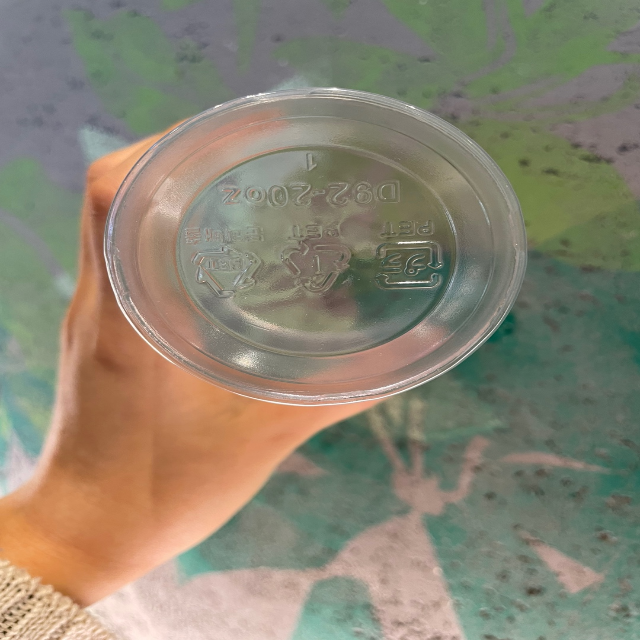pet: (181, 222, 266, 303), (279, 222, 356, 302), (376, 216, 447, 297)
